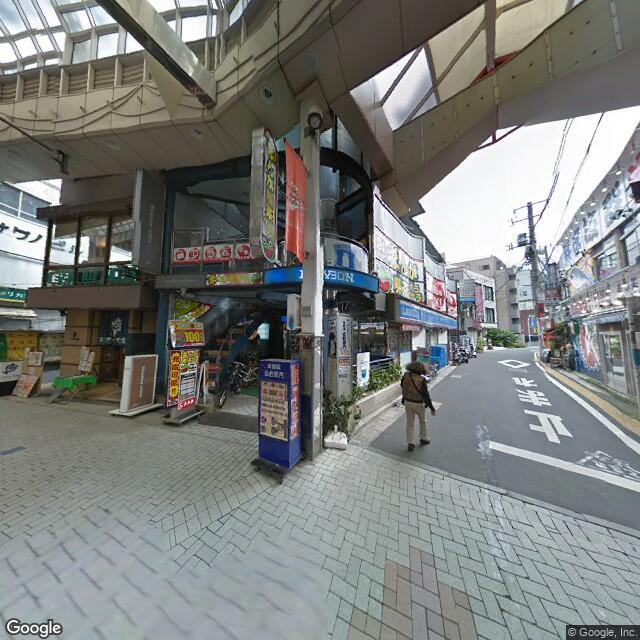lawson: (396, 298, 462, 329), (328, 238, 359, 279)
